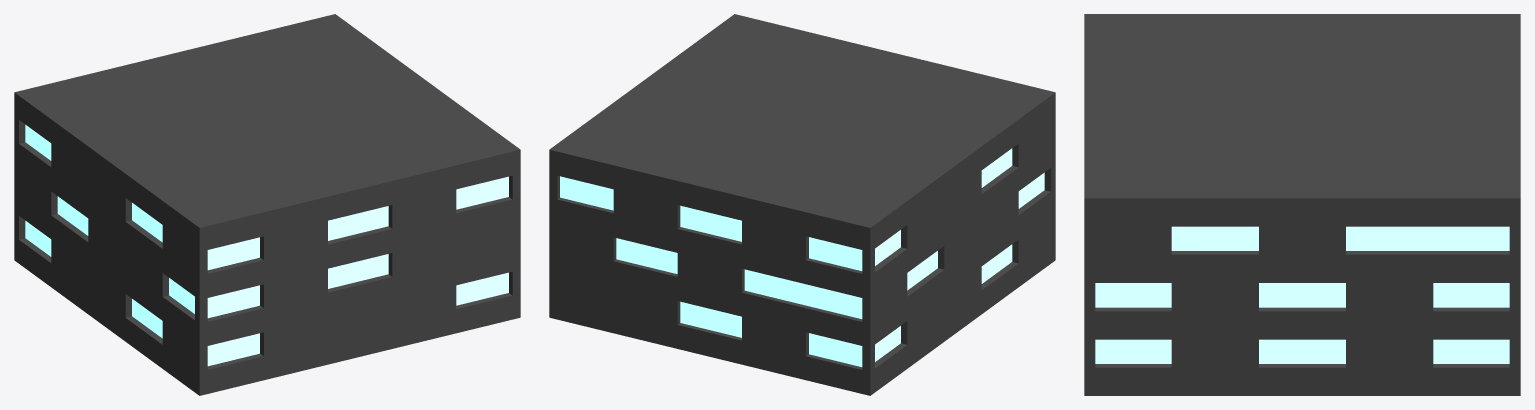
Rendered from BuildingBase_01.fbx.
3 views of the same model, side by side, from view 1: azimuth 30°, elevation 25°; view 2: azimuth 150°, elevation 25°; view 3: azimuth 270°, elevation 25° (orthographic). The views are drawn at different scales.
Parts seen in each view (by area): view 1: BuildingBase_01; view 2: BuildingBase_01; view 3: BuildingBase_01.
Part boxes in pixels (<box>): BuildingBase_01: <box>14,14,520,395</box>; BuildingBase_01: <box>549,14,1055,395</box>; BuildingBase_01: <box>1084,14,1520,395</box>.
Bounding box in the file's own units: 200000 × 100000 × 200000.
